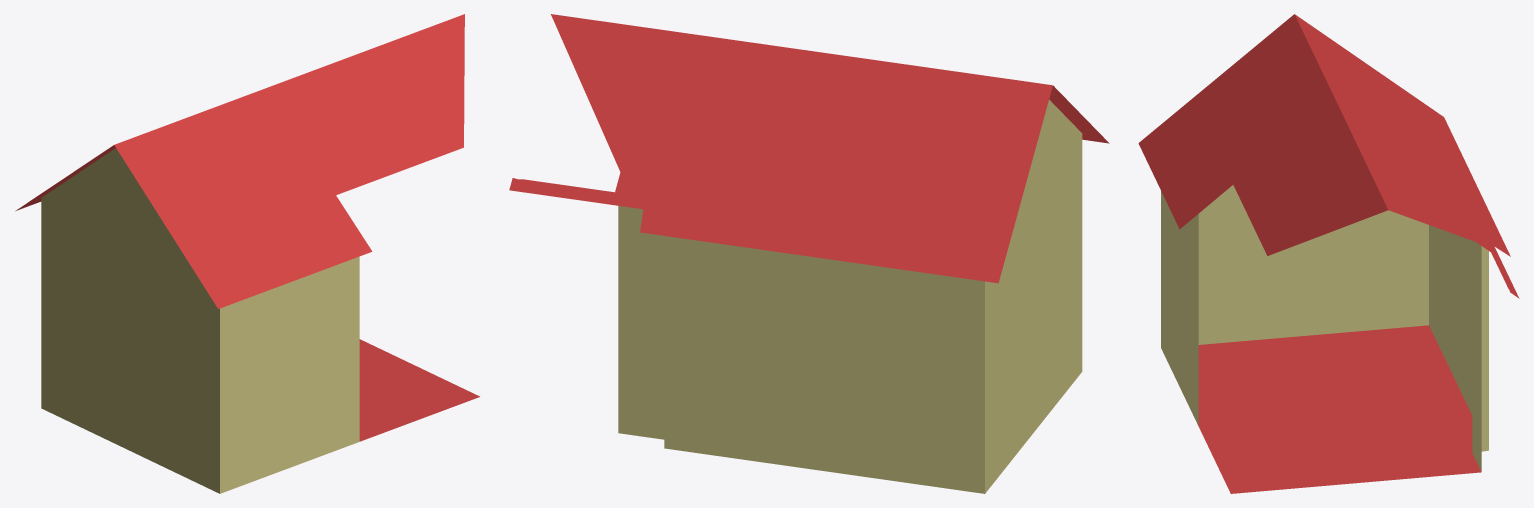
3 views of the same model, side by side, from view 1: azimuth 30°, elevation 25°; view 2: azimuth 150°, elevation 25°; view 3: azimuth 270°, elevation 25° (orthographic). The views are drawn at different scales.
Size of the model in its own units: 12.83 by 9.89 by 9.
